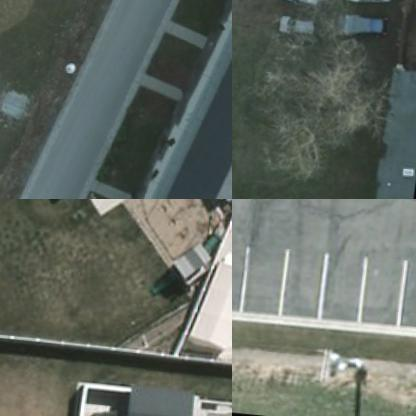car: (267, 0, 329, 57), (277, 0, 339, 28), (337, 0, 399, 25)
